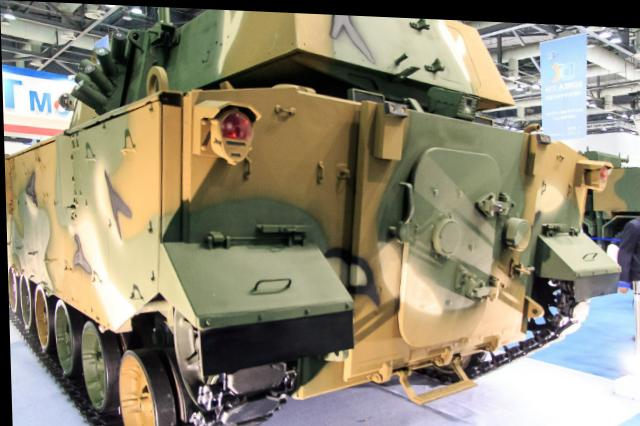tank: (0, 0, 623, 415)
